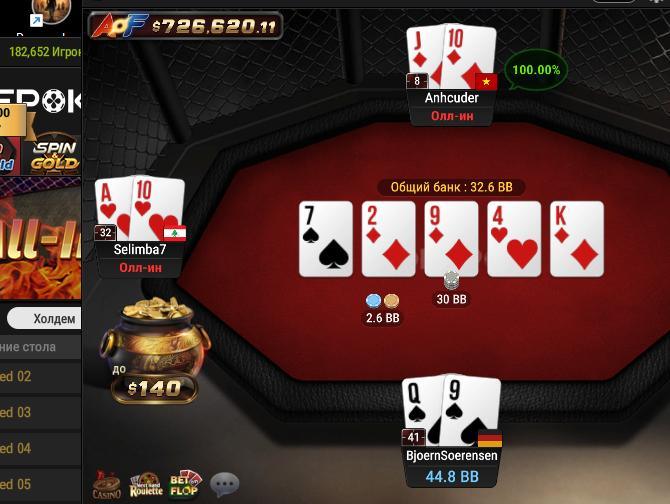10d: (443, 20, 497, 89)
10h: (132, 175, 184, 241)
2d: (362, 202, 416, 275)
4h: (487, 202, 541, 276)
7s: (300, 202, 353, 275)
9d: (425, 202, 478, 277)
9s: (443, 372, 502, 445)
Ah: (94, 178, 131, 240)
Jd: (406, 26, 443, 89)
Kd: (551, 202, 604, 275)
Qs: (401, 377, 442, 447)
